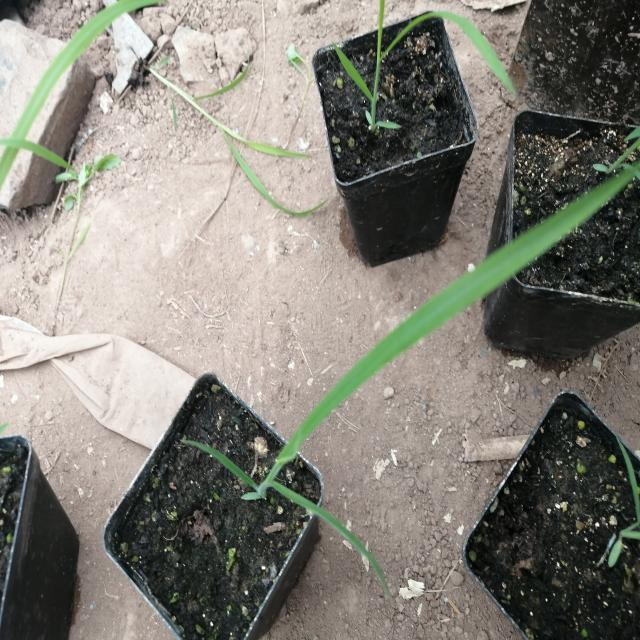crabgrass: (228, 188, 598, 534)
